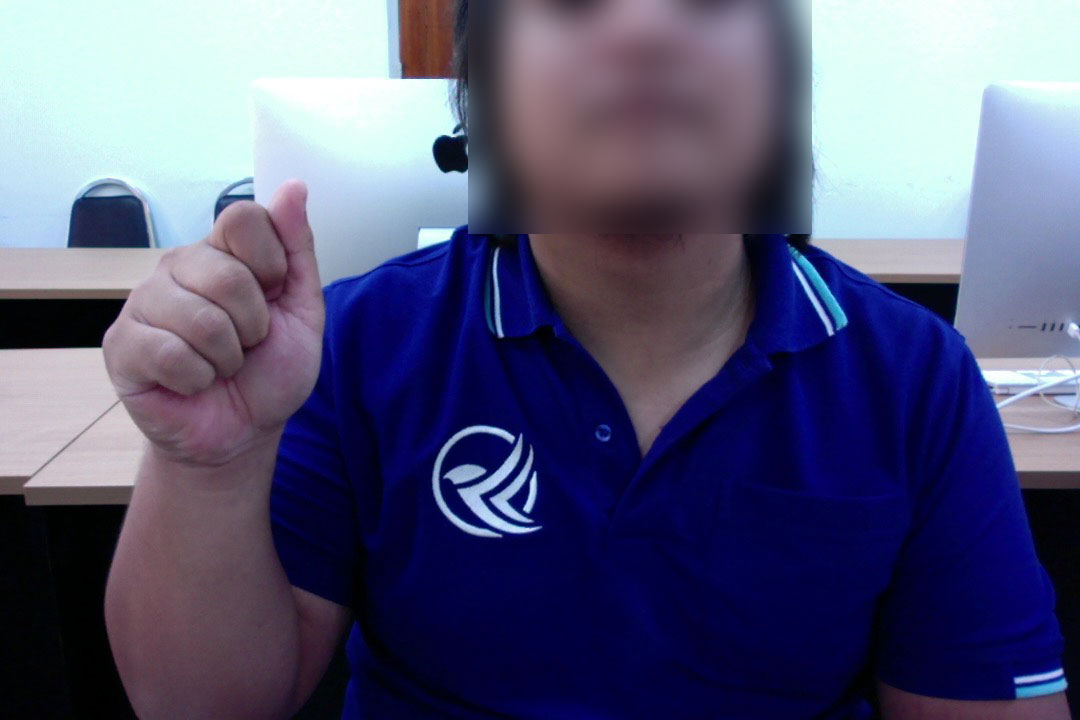or: (90, 160, 339, 487)
